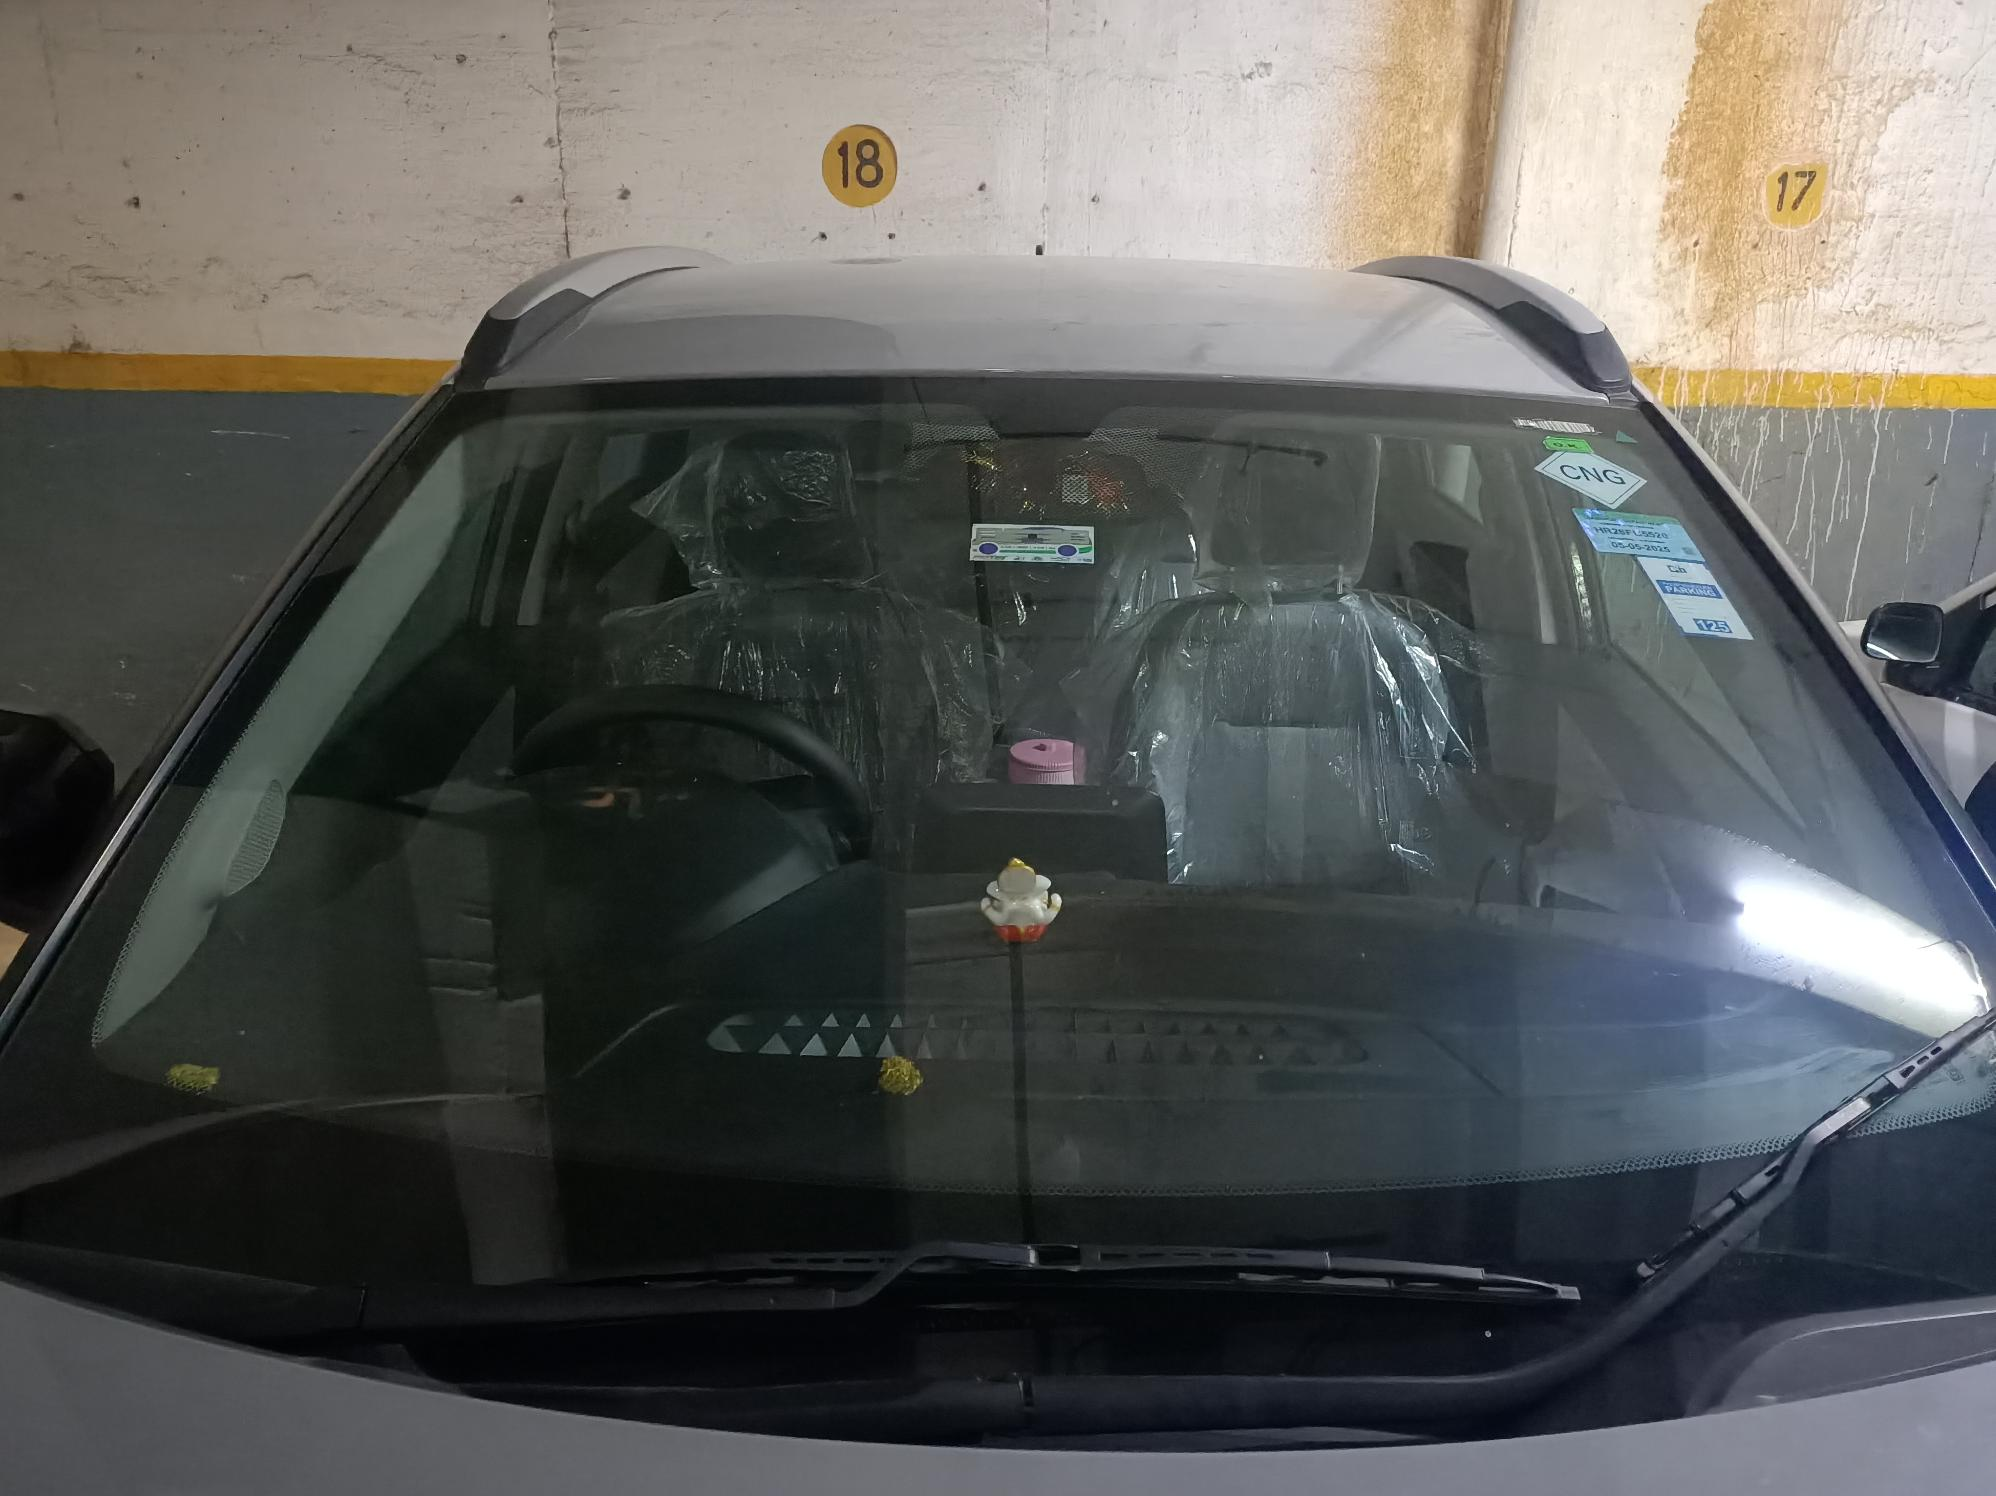FastTag: (952, 501, 1121, 581)
not a FastTag: (1572, 512, 1746, 649), (1531, 432, 1649, 514)
